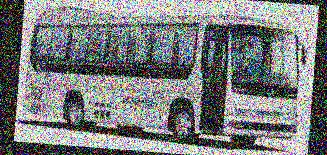bus: (23, 0, 309, 149)
